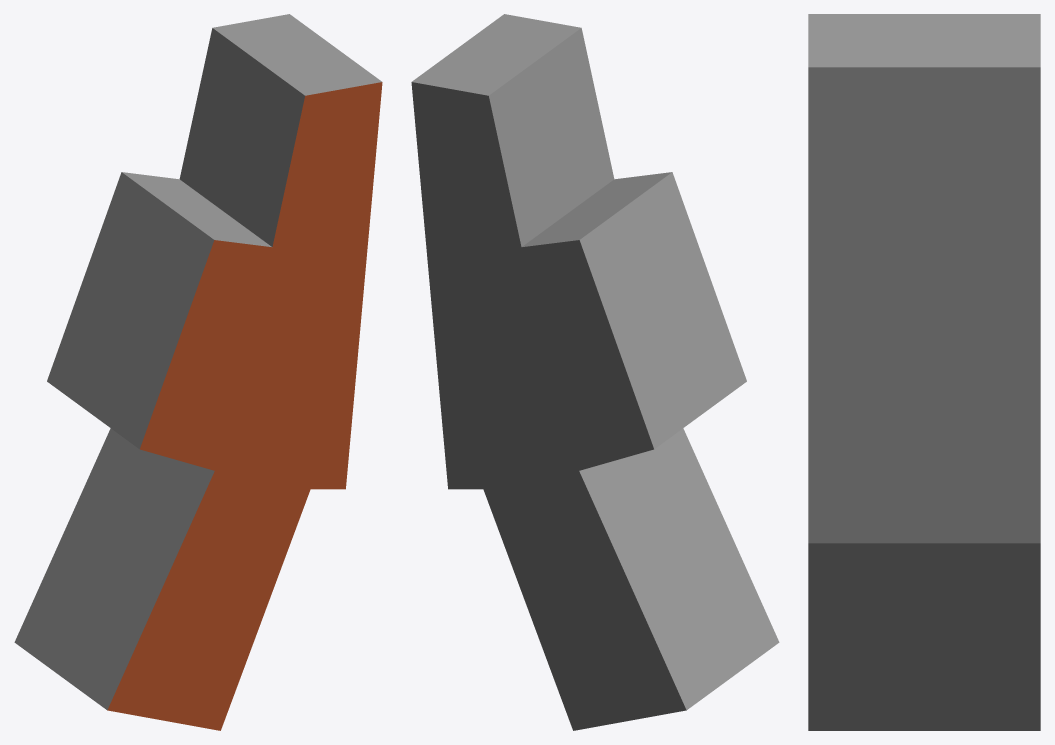
The model's file is construction_1854_assumed_A_Casa_h6m.obj.
3 views of the same model, side by side, from view 1: azimuth 30°, elevation 25°; view 2: azimuth 150°, elevation 25°; view 3: azimuth 270°, elevation 25° (orthographic). The views are drawn at different scales.
Visible parts, largest first — view 1: construction_1854_assumed_A_Casa; view 2: construction_1854_assumed_A_Casa; view 3: construction_1854_assumed_A_Casa.
Boxes of the visible parts, x1=… form: construction_1854_assumed_A_Casa: x1=14, y1=14, x2=382, y2=730; construction_1854_assumed_A_Casa: x1=411, y1=14, x2=779, y2=730; construction_1854_assumed_A_Casa: x1=808, y1=14, x2=1040, y2=730.
Bounding box in the file's own units: 10.27 × 21.91 × 6.
